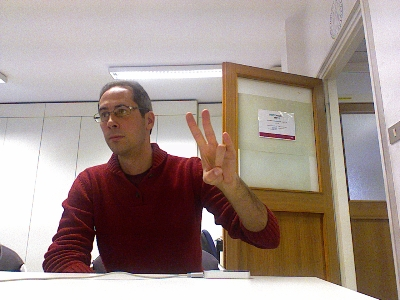观音: (184, 108, 239, 188)
